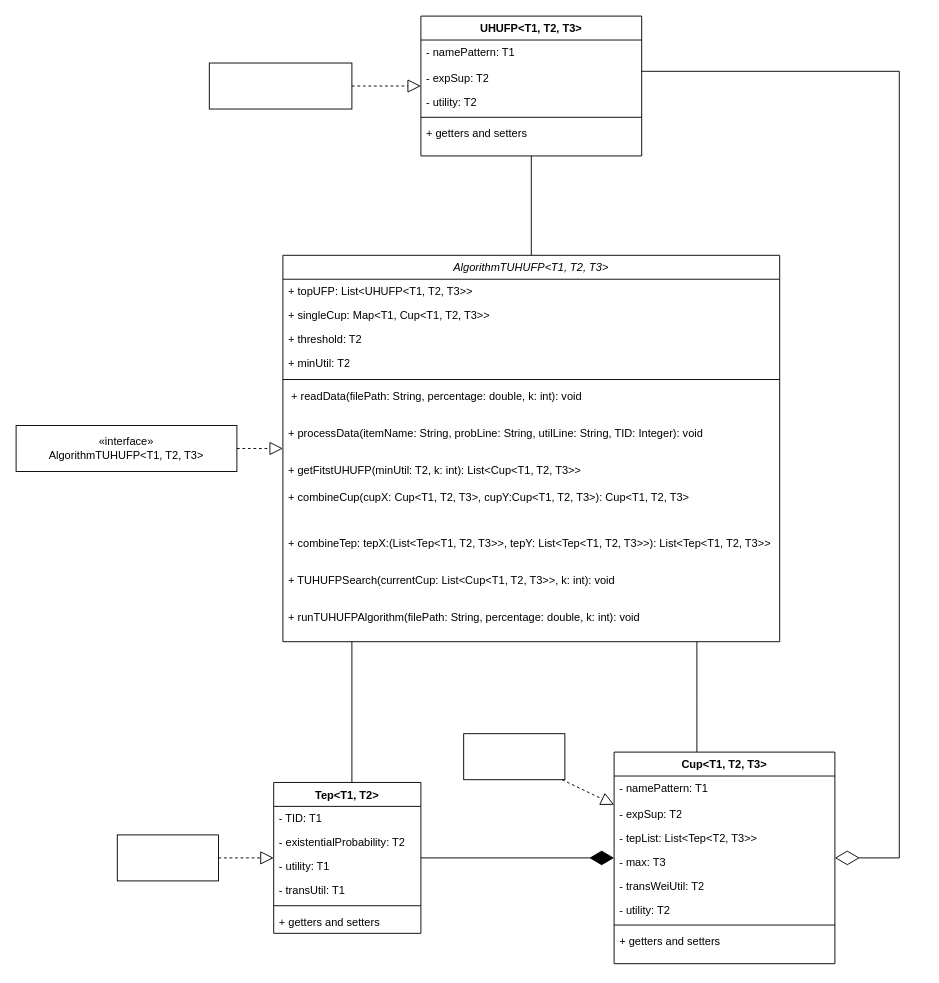
Some shapes in this 939 by 983 pixel diagram are drawn without their labels. The shapes that lost their labels are listed below. From the top down, each one's centre as x and y in pixels, then its label:
(280,85): «interface» UHUFP<T1, T2, T3>
(514,756): «interface» Cup<T1, T2, T3>
(167,857): «interface» Tep<T1, T2>
